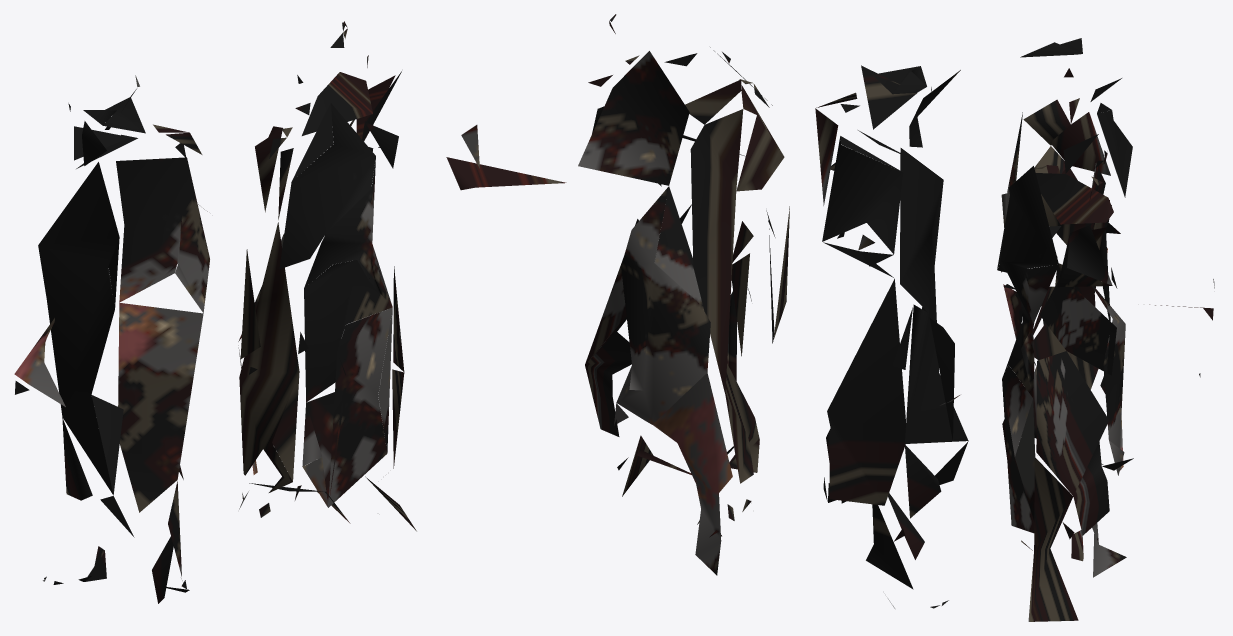
The picture shows the model from 3 angles, left to right: view 1: azimuth 30°, elevation 25°; view 2: azimuth 150°, elevation 25°; view 3: azimuth 270°, elevation 25°; orthographic projection. The views are drawn at different scales.
Visible parts, largest first — view 1: body.002; view 2: body.002; view 3: body.002.
Part boxes in pixels (x1=…): body.002: x1=14, y1=21, x2=416, y2=603; body.002: x1=446, y1=14, x2=968, y2=608; body.002: x1=997, y1=38, x2=1214, y2=621.
Size of the model in its own units: 1.79 by 2.05 by 0.8509.
Materials: 1 (1 with a texture image).
